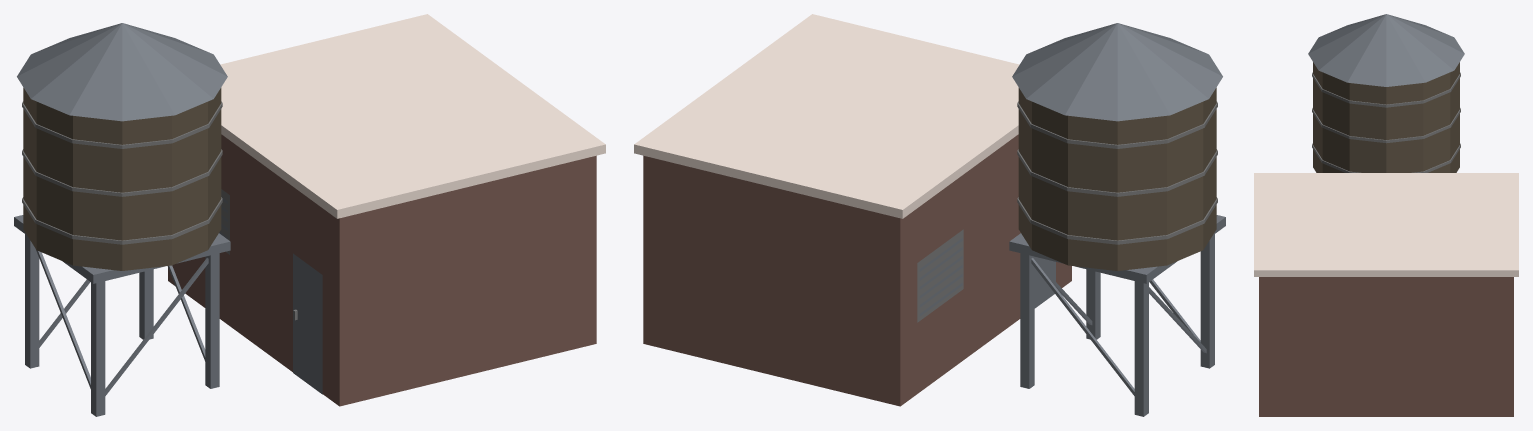
The model's file is roofprop_close.fbx.
3 views of the same model, side by side, from view 1: azimuth 30°, elevation 25°; view 2: azimuth 150°, elevation 25°; view 3: azimuth 270°, elevation 25° (orthographic). The views are drawn at different scales.
Visible parts, largest first — view 1: a2007/500/roofprop_close; view 2: a2007/500/roofprop_close; view 3: a2007/500/roofprop_close.
Part boxes in pixels (x1,y1,x2,y2): a2007/500/roofprop_close: [14, 14, 605, 416]; a2007/500/roofprop_close: [634, 14, 1225, 416]; a2007/500/roofprop_close: [1254, 14, 1518, 416].
Size of the model in its own units: 8.5 by 5.9 by 5.4.
